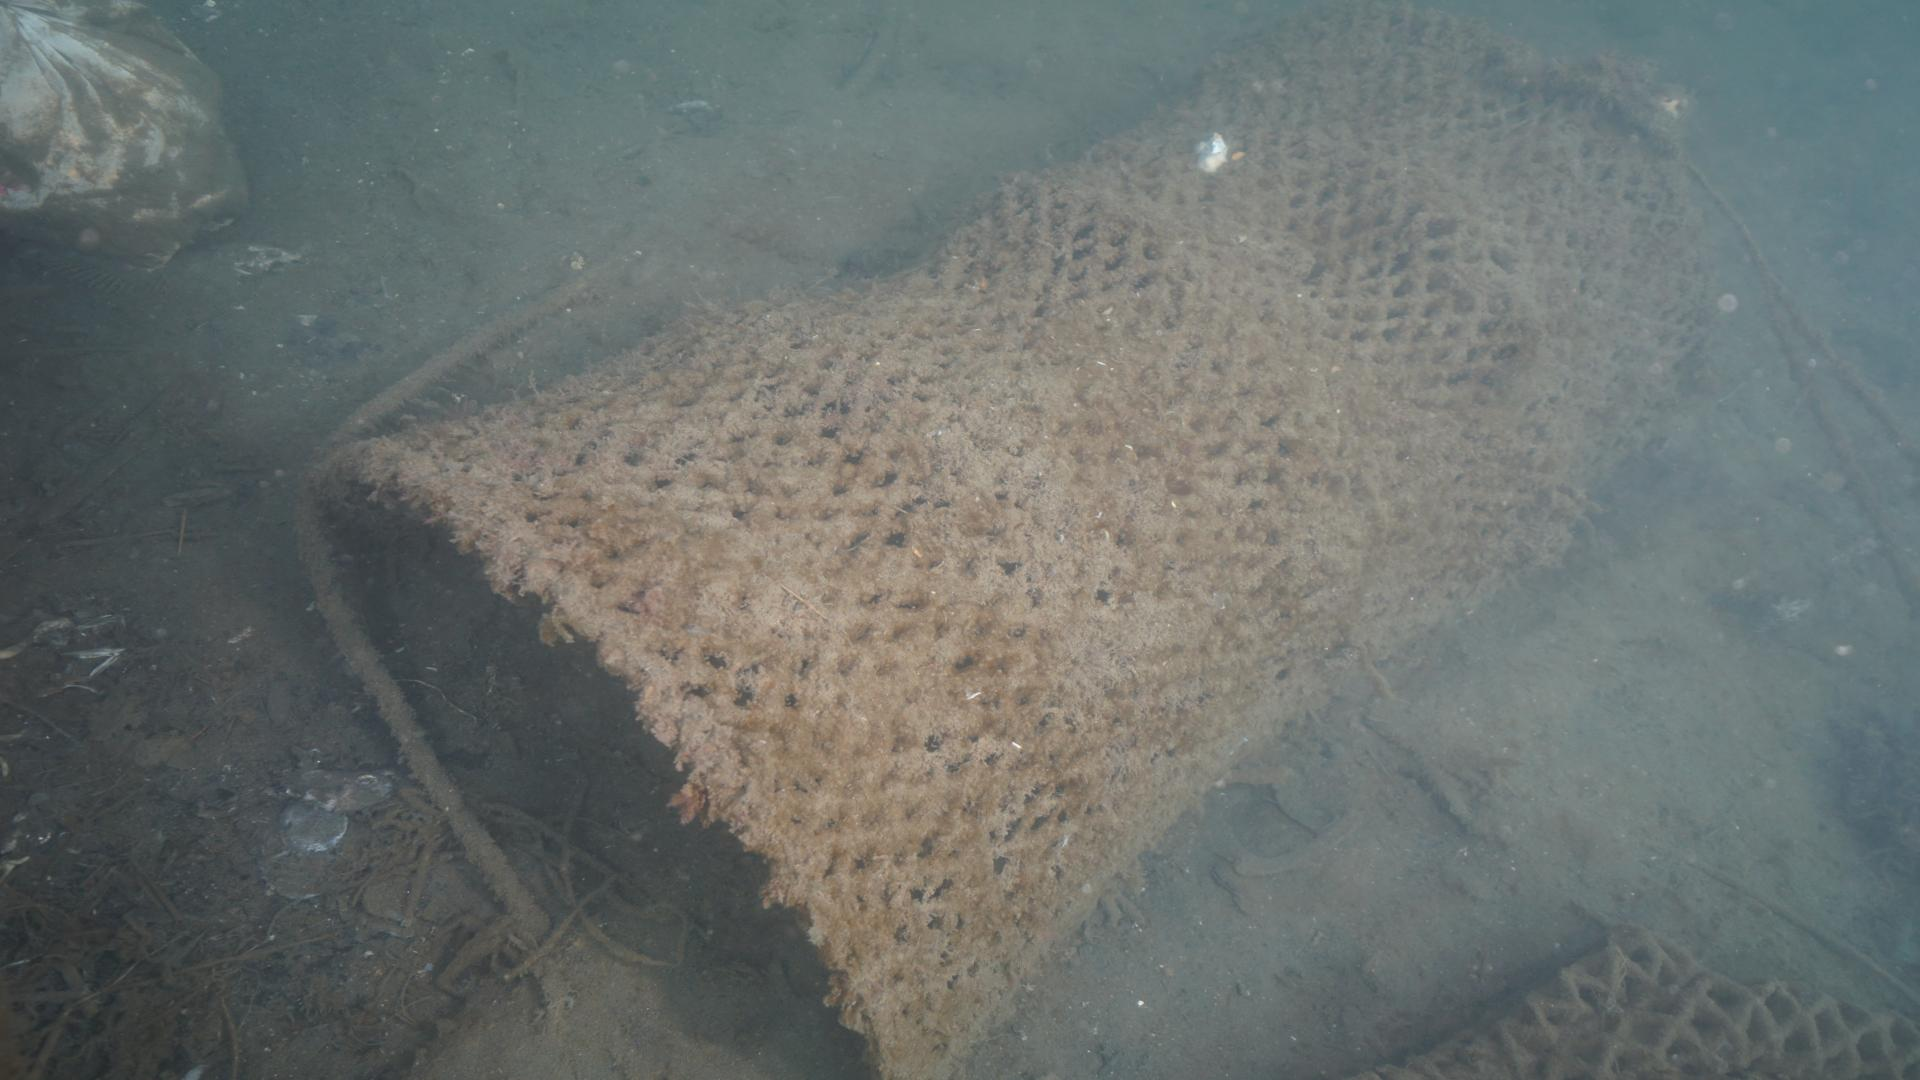bundle of ropes: (1687, 160, 1920, 612)
fish net: (1433, 940, 1920, 1080)
spring fish trap: (287, 0, 1705, 1080)
